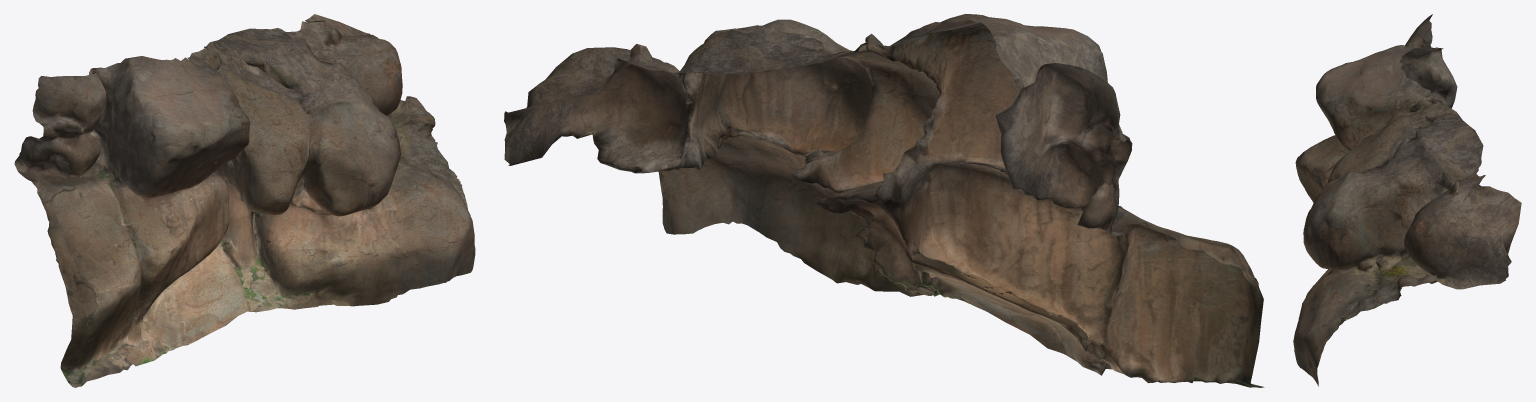
The model's file is cliff.glb.
3 views of the same model, side by side, from view 1: azimuth 30°, elevation 25°; view 2: azimuth 150°, elevation 25°; view 3: azimuth 270°, elevation 25° (orthographic). The views are drawn at different scales.
Visible parts, largest first — view 1: drone_rock_01; view 2: drone_rock_01; view 3: drone_rock_01.
Boxes of the visible parts, x1,y1,x2,y2 form: drone_rock_01: (14,14,475,387); drone_rock_01: (504,14,1264,387); drone_rock_01: (1293,14,1521,386).
Size of the model in its own units: 8.28 by 4.96 by 4.39.
Materials: 1 (1 with a texture image).
